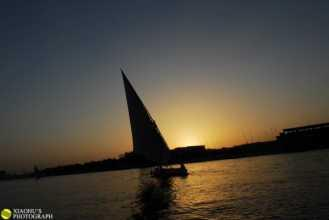fanchuan: (119, 64, 194, 184)
